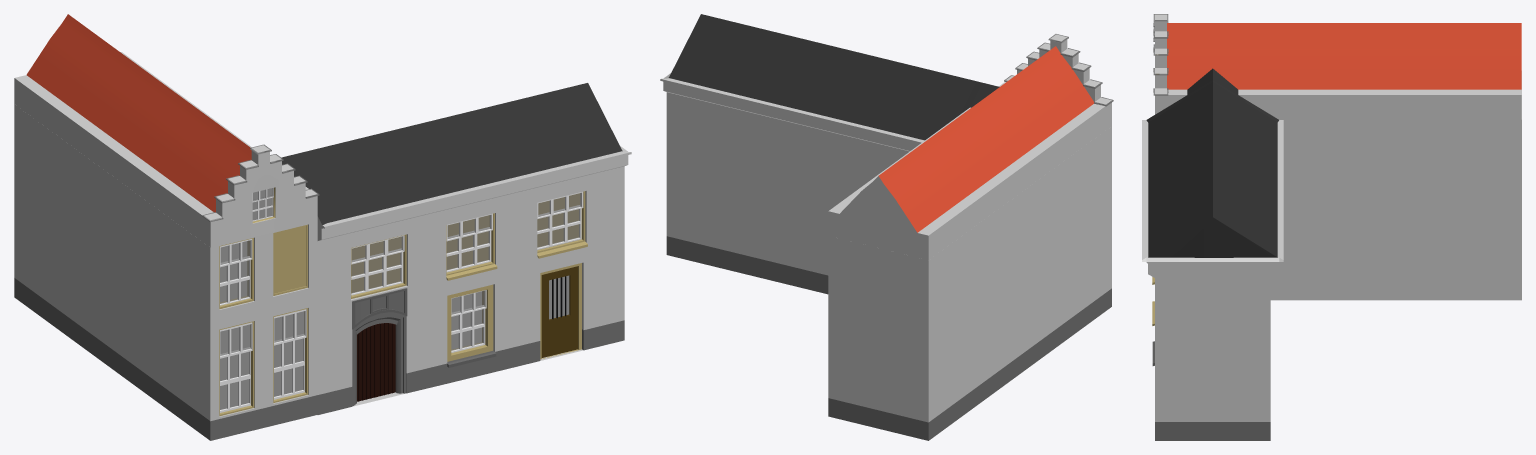
File: House_Loenersloot.fbx
3 renders of one model, left to right at view 1: azimuth 30°, elevation 25°; view 2: azimuth 150°, elevation 25°; view 3: azimuth 270°, elevation 25°, orthographic. The views are drawn at different scales.
Parts seen in each view (by area): view 1: Cube.009, Cube.007; view 2: Cube.009, Cube.007; view 3: Cube.009, Cube.007.
Part boxes in pixels (x1,y1,x2,y2): Cube.009: (14, 14, 319, 440); Cube.007: (281, 83, 631, 414); Cube.009: (828, 34, 1113, 440); Cube.007: (660, 14, 999, 294); Cube.009: (1153, 14, 1521, 300); Cube.007: (1142, 68, 1283, 440).
Bounding box in the file's own units: 775 × 494 × 656.
